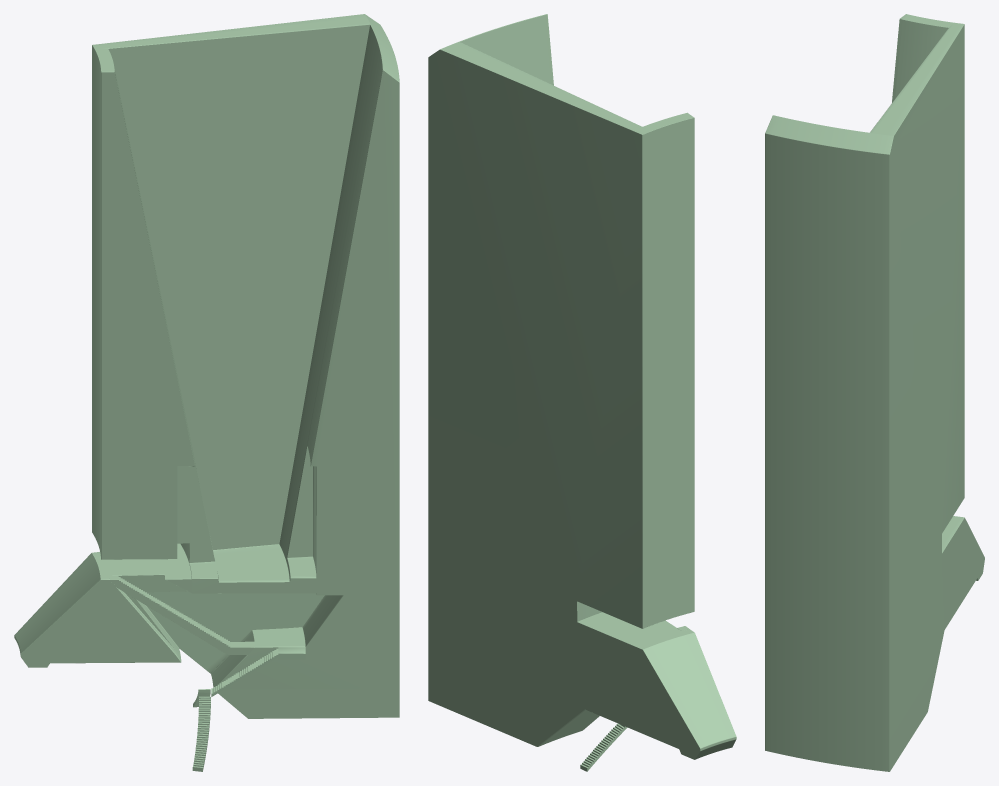
Rendered from 009-Towers.fbx.
The picture shows the model from 3 angles, left to right: view 1: azimuth 30°, elevation 25°; view 2: azimuth 150°, elevation 25°; view 3: azimuth 270°, elevation 25°; orthographic projection. The views are drawn at different scales.
Parts seen in each view (by area): view 1: TowerPatchUp2, TowerPatchUp003, Connectbevel_1, Step_0_2, StepsBevel_2; view 2: TowerPatchUp2, TowerPatchUp003, TInnerPanel, Step_0; view 3: TowerPatchUp2.
Boxes of the visible parts, left/top/right/bottom form: TowerPatchUp2: left=20, top=14, right=399, bottom=718; TowerPatchUp003: left=14, top=553, right=180, bottom=667; Connectbevel_1: left=109, top=576, right=255, bottom=654; Step_0_2: left=192, top=696, right=210, bottom=771; StepsBevel_2: left=211, top=648, right=278, bottom=696; TowerPatchUp2: left=428, top=14, right=700, bottom=759; TowerPatchUp003: left=643, top=632, right=736, bottom=759; TInnerPanel: left=537, top=709, right=599, bottom=746; Step_0: left=580, top=723, right=627, bottom=771; TowerPatchUp2: left=765, top=14, right=984, bottom=771.
Bounding box in the file's own units: 5672 × 10864 × 3347.
